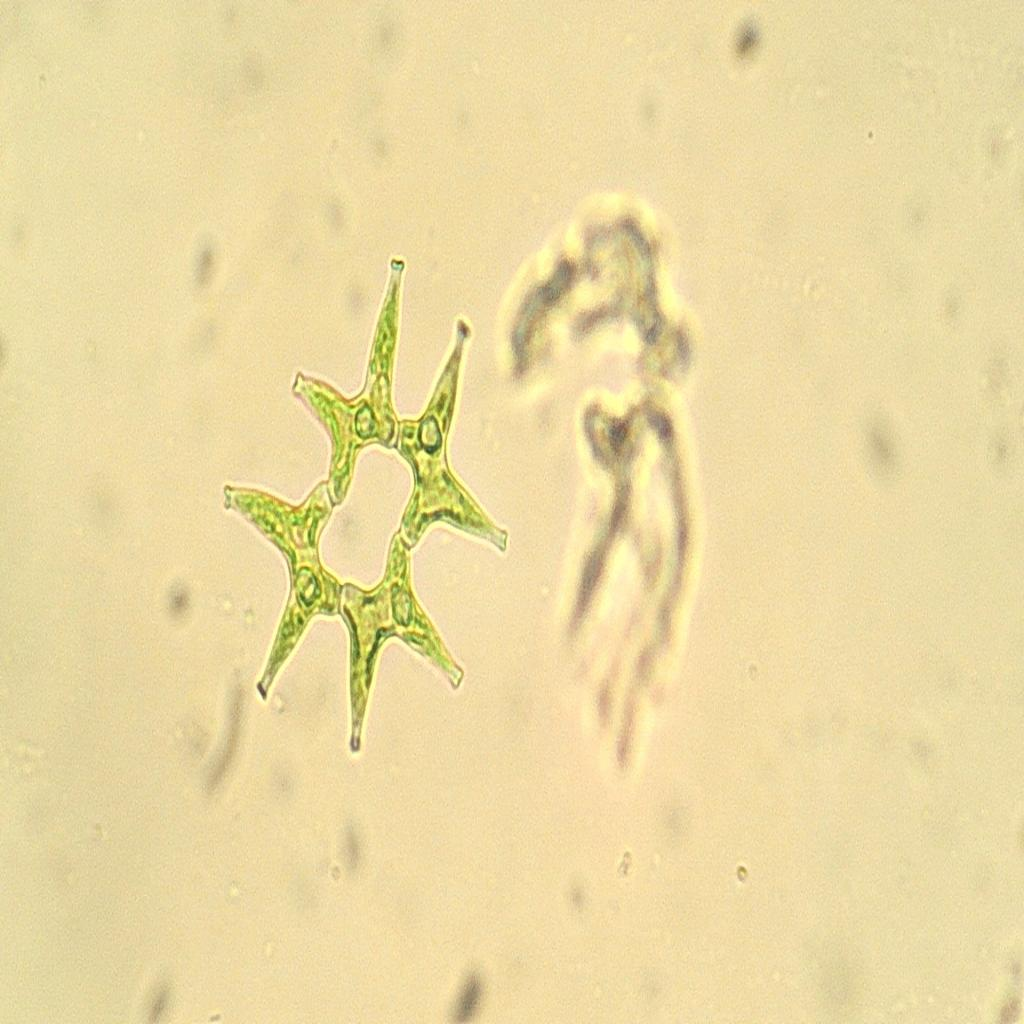Pediastrum_CO: (208, 246, 534, 780)
